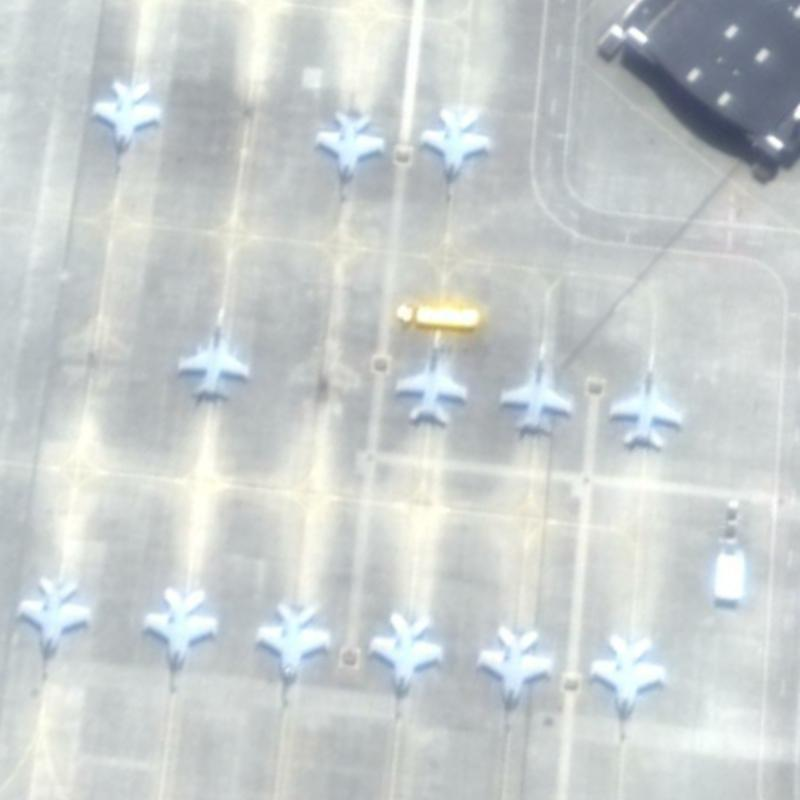A16: (464, 615, 556, 741), (586, 622, 675, 747), (247, 591, 334, 716), (131, 578, 220, 699), (361, 603, 447, 723), (9, 570, 98, 683), (410, 98, 497, 210), (163, 291, 248, 404), (599, 343, 686, 452), (388, 320, 473, 431), (303, 102, 390, 204), (494, 329, 574, 438), (86, 76, 166, 180)
